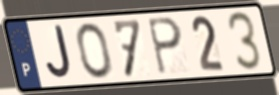2: (191, 14, 226, 73)
3: (226, 9, 264, 73)
7: (111, 17, 143, 79)
J: (44, 23, 74, 82)
O: (75, 21, 114, 81)
P: (145, 17, 185, 78)
